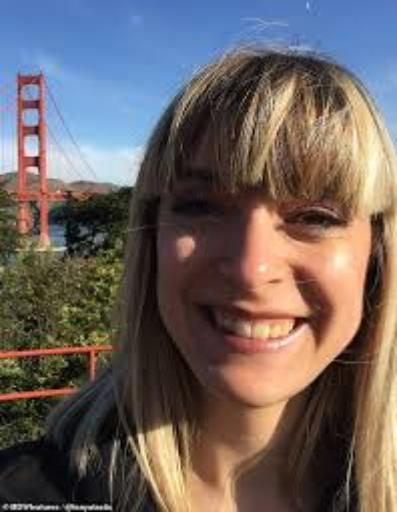left_eye: (282, 209, 343, 233)
left_lip_corner: (296, 313, 318, 333)
right_eye: (177, 198, 226, 222)
right_lip_corner: (193, 299, 215, 320)
